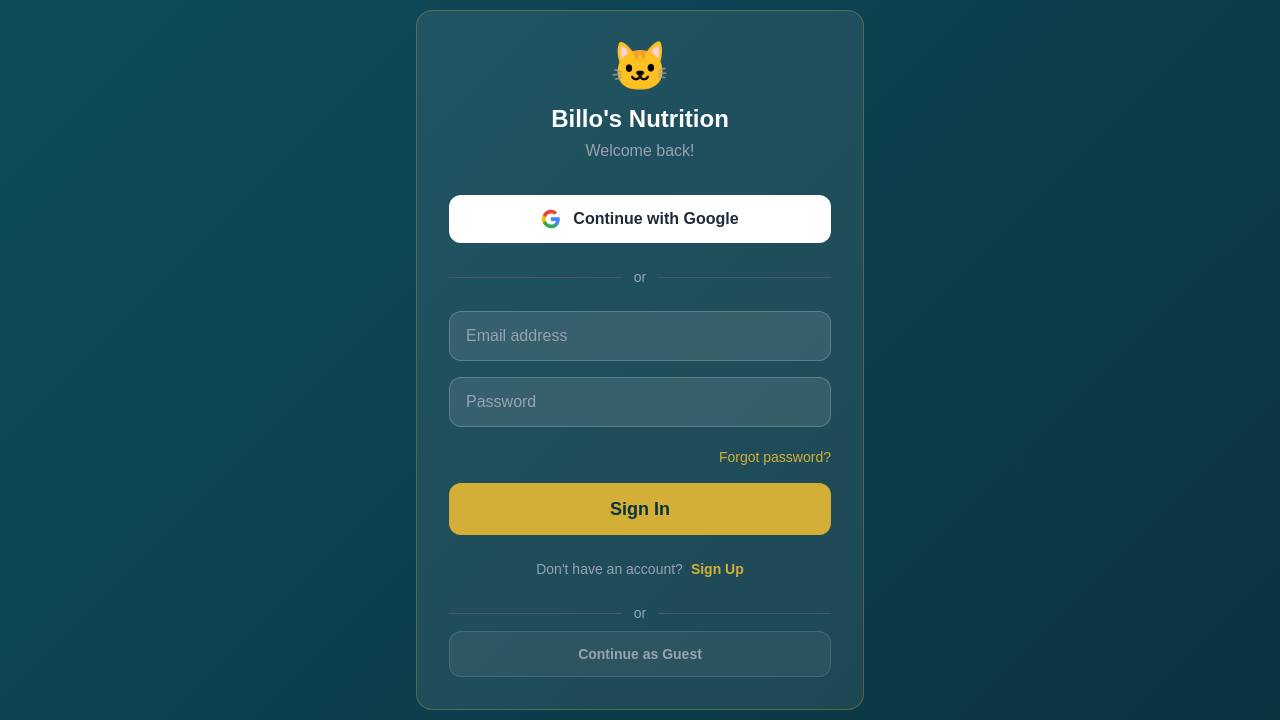
it: LoginPage › toggles back to sign in from sign up
Step 1. Click the button "Sign Up" → (717,569), box [691, 559, 744, 579]
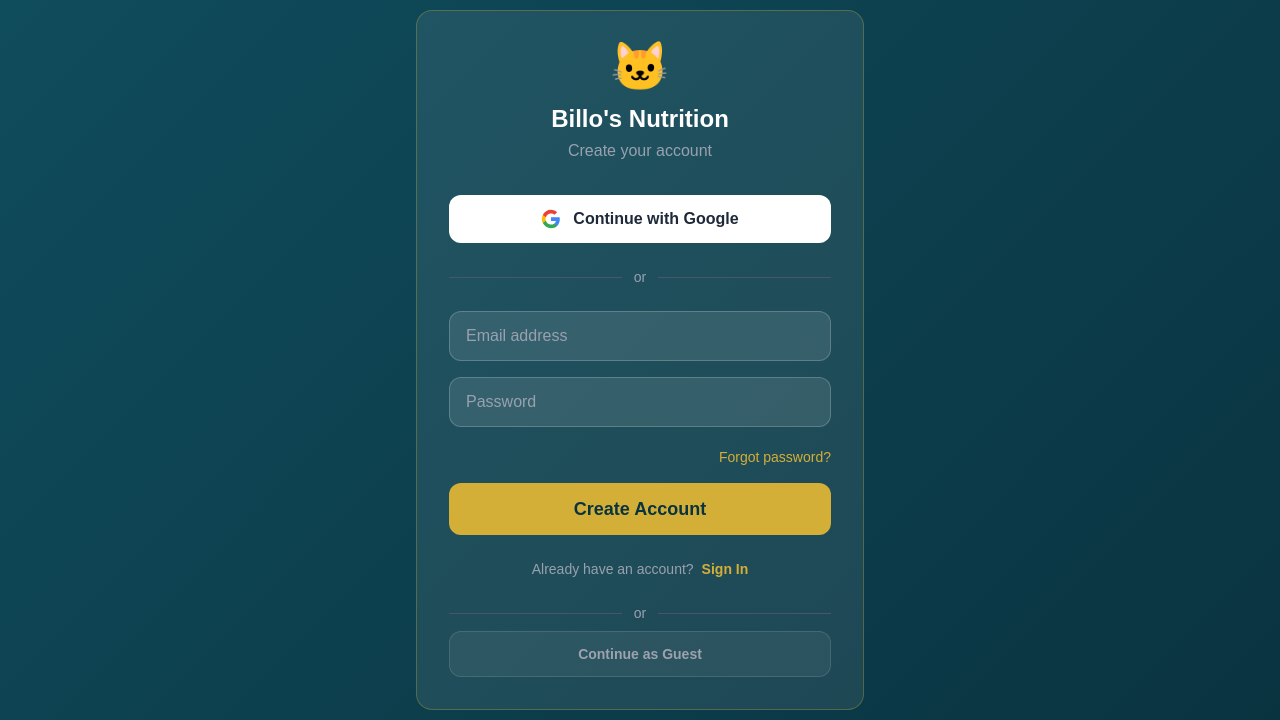
Step 2. Click the button "Sign In" → (725,569), box [702, 559, 748, 579]
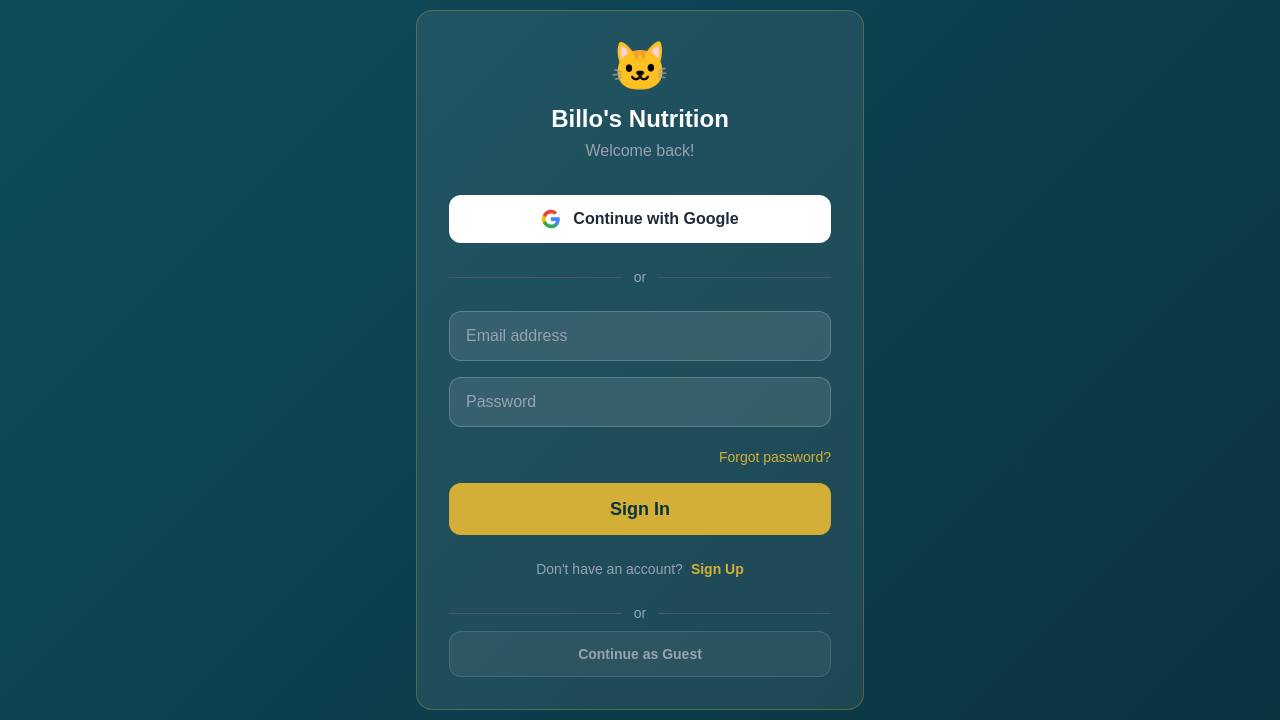
expect the text "Welcome back!" is shown: met, box [586, 142, 695, 159]
